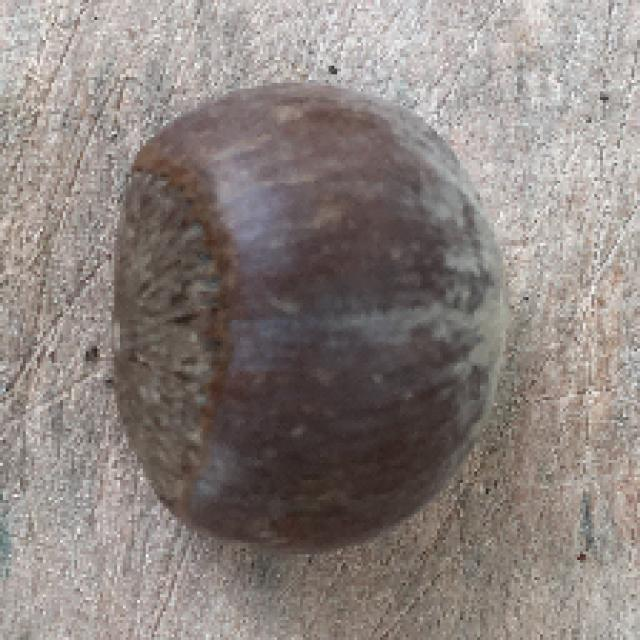damagedHazelnut: (114, 80, 510, 540)
